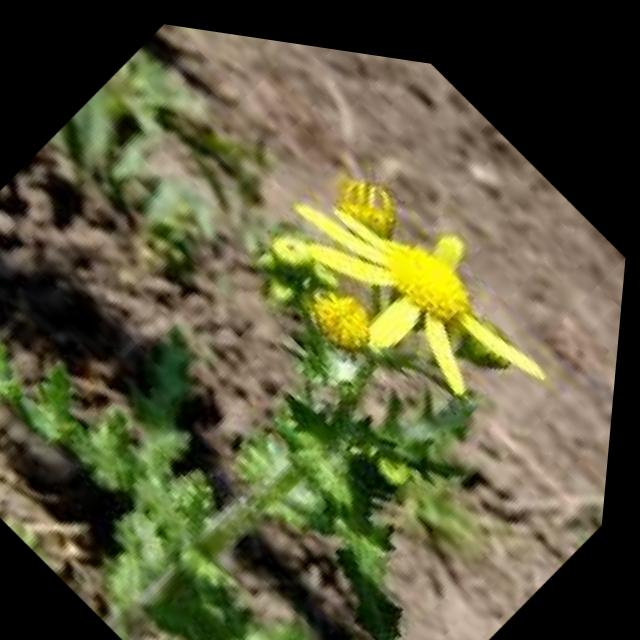Flower: (254, 124, 597, 456)
